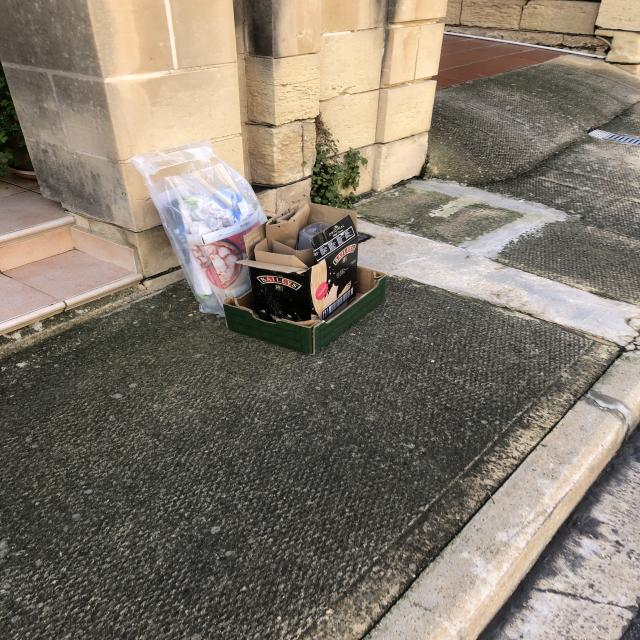Other: (129, 139, 269, 316), (236, 204, 361, 328), (223, 266, 389, 354)
